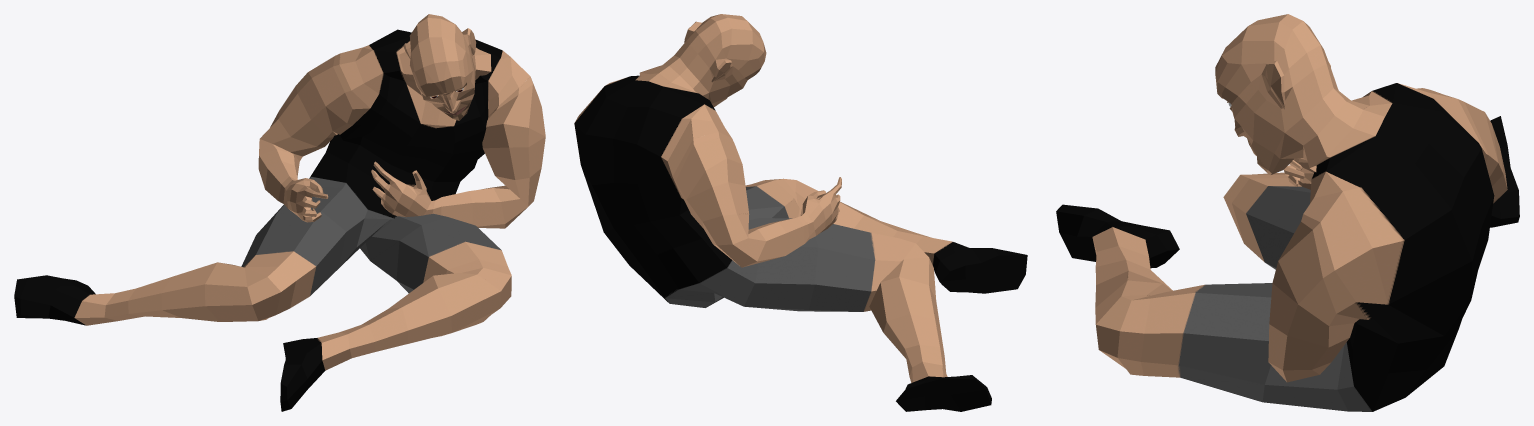
File: PlayerDead(41).obj
3 views of the same model, side by side, from view 1: azimuth 30°, elevation 25°; view 2: azimuth 150°, elevation 25°; view 3: azimuth 270°, elevation 25° (orthographic). The views are drawn at different scales.
Parts seen in each view (by area): view 1: Plane002; view 2: Plane002; view 3: Plane002.
Part boxes in pixels (bbox=[...]): Plane002: bbox=[14, 14, 545, 411]; Plane002: bbox=[574, 14, 1027, 411]; Plane002: bbox=[1056, 14, 1519, 411].
Size of the model in its own units: 1329 by 767 by 823.
